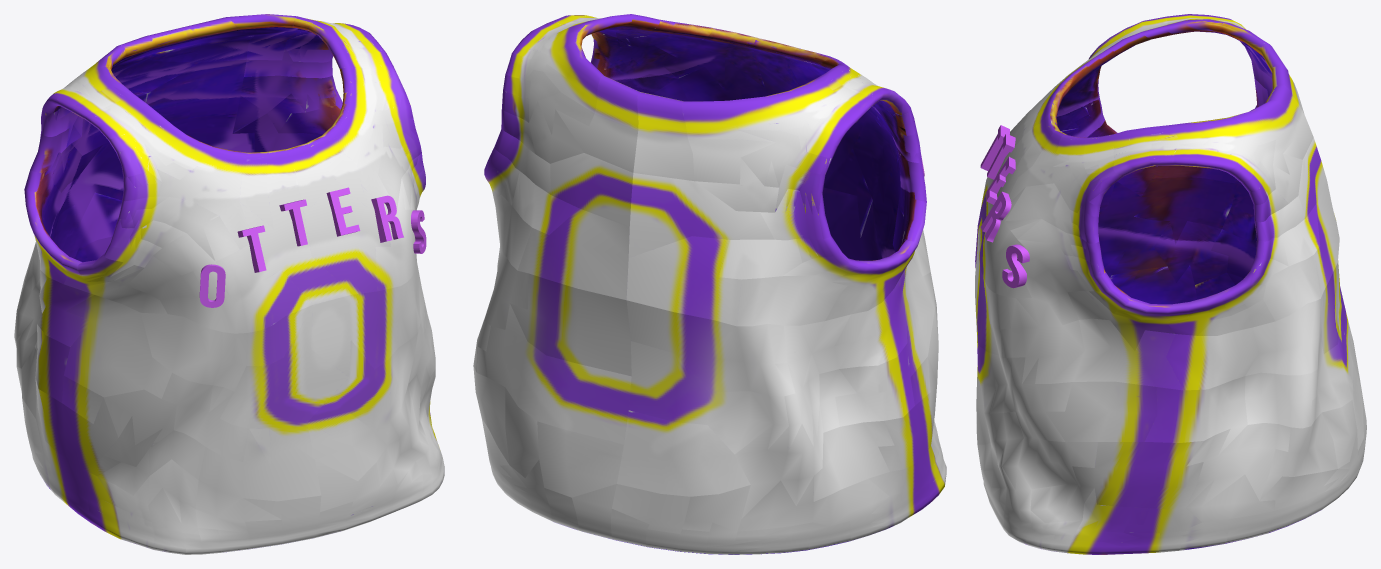
The model's file is Basketball-Purple-v2.glb.
The picture shows the model from 3 angles, left to right: view 1: azimuth 30°, elevation 25°; view 2: azimuth 150°, elevation 25°; view 3: azimuth 270°, elevation 25°; orthographic projection. The views are drawn at different scales.
Parts seen in each view (by area): view 1: Basketball-Purple-v2; view 2: Basketball-Purple-v2; view 3: Basketball-Purple-v2.
Boxes of the visible parts, bbox=[...] form: Basketball-Purple-v2: bbox=[14, 14, 444, 554]; Basketball-Purple-v2: bbox=[473, 14, 946, 554]; Basketball-Purple-v2: bbox=[975, 14, 1366, 554].
Size of the model in its own units: 0.3436 by 0.364 by 0.316.
2 materials, 1 textured.
